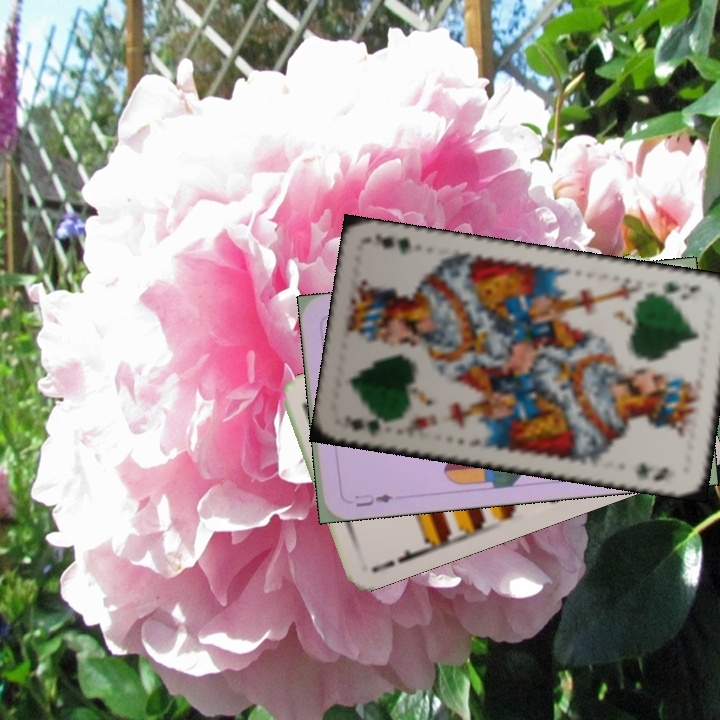E7: (367, 545, 424, 575)
EU: (351, 489, 395, 509)
GK: (337, 410, 397, 435), (651, 276, 704, 303)
